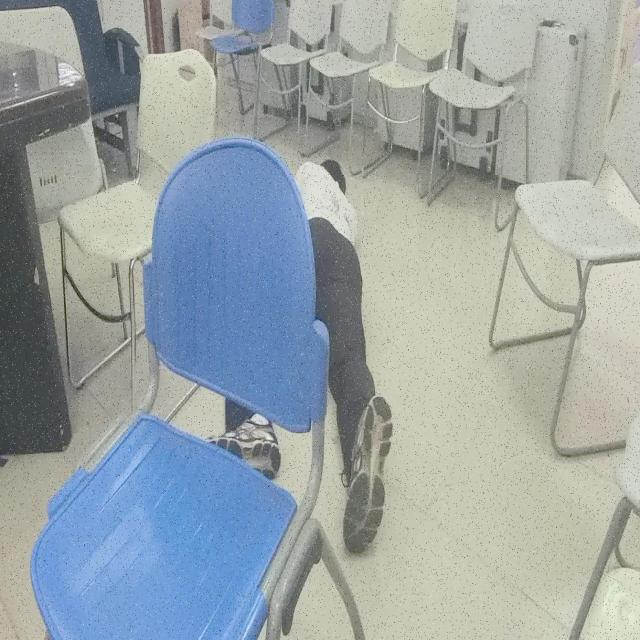fall: (202, 154, 392, 551)
